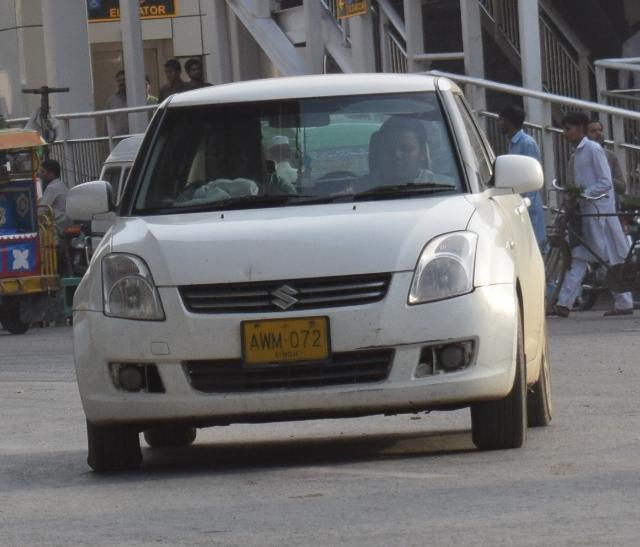plate: (239, 316, 331, 364)
